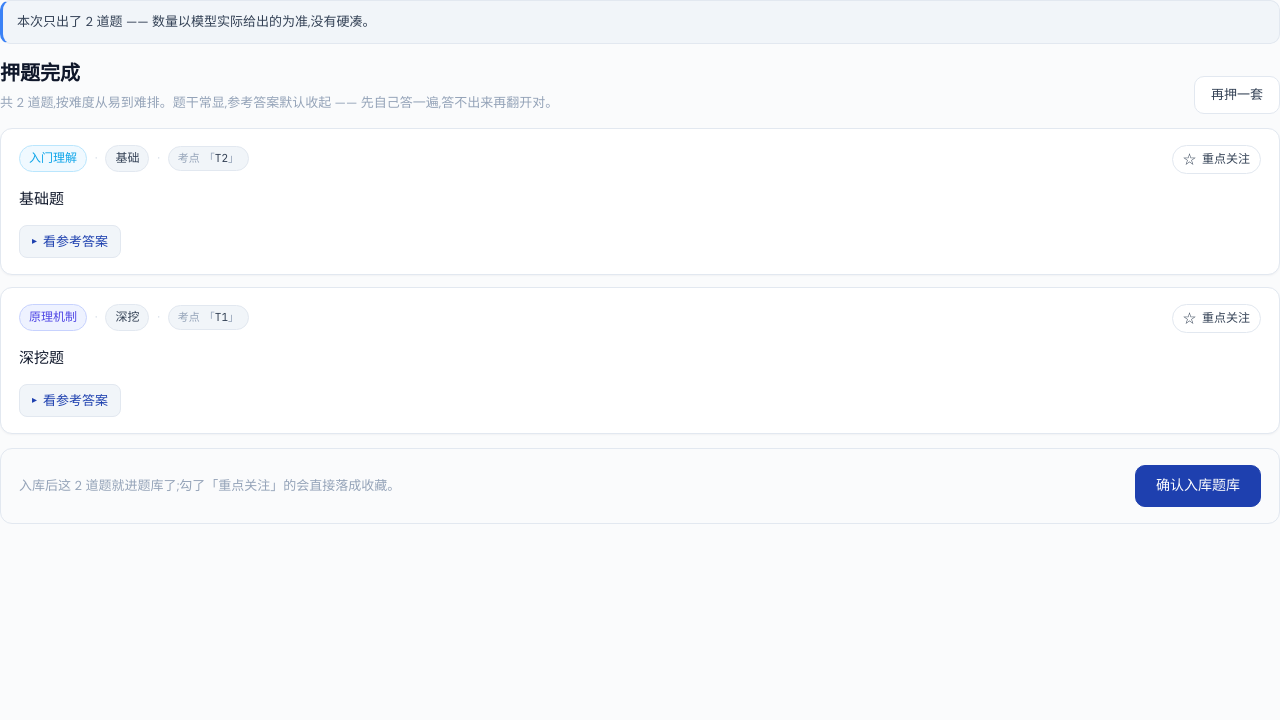
Scenario: 押题页确认入库 › 入库后提示「已入库 N 题 → 去题库」,链接指向 /questions
Expected: the heading "押题完成" is shown, [0, 60, 80, 85]
Step 1. Click the button "确认入库题库" → coordinates (1198, 486), box [1135, 465, 1261, 507]
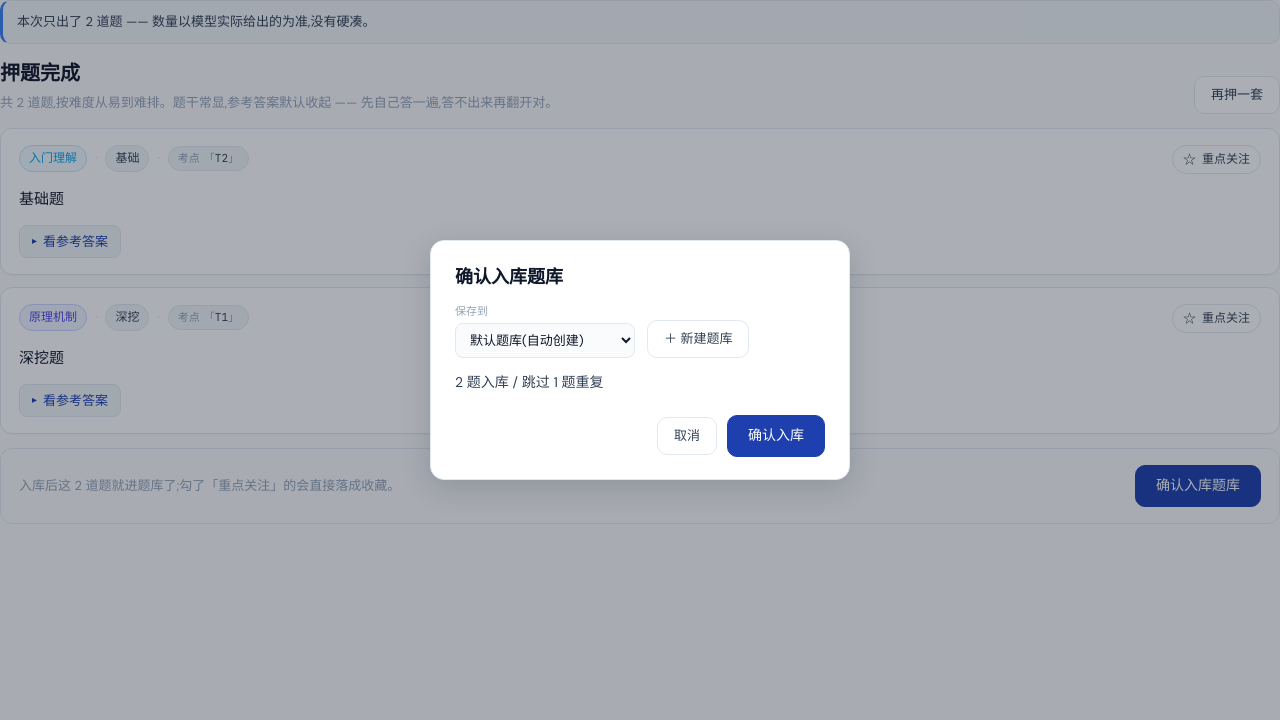
Now the text "2 题入库 / 跳过 1 题重复" is shown, box [455, 373, 604, 391]
Step 2. Click the button "确认入库" → coordinates (776, 436), box [727, 416, 825, 457]
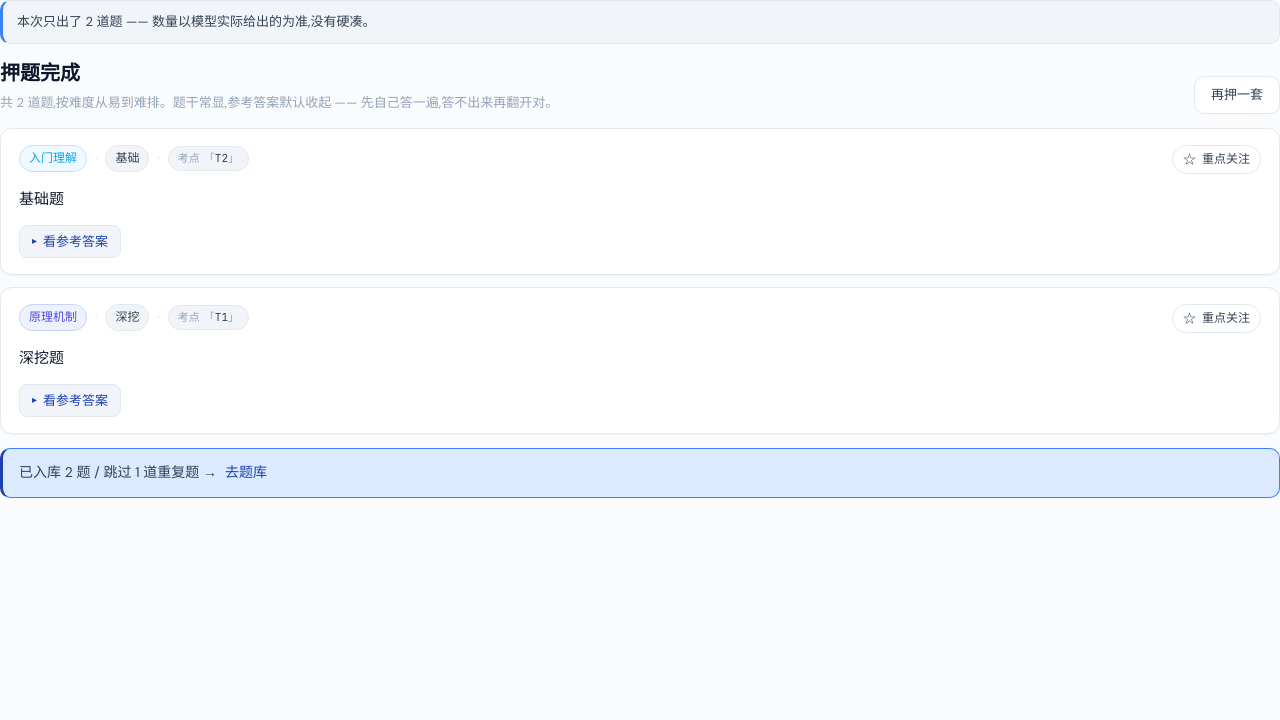
Now the text "已入库 2 题 / 跳过 1 道重复题 →" is shown, box [19, 461, 217, 485]
Now the button "确认入库题库" is gone
